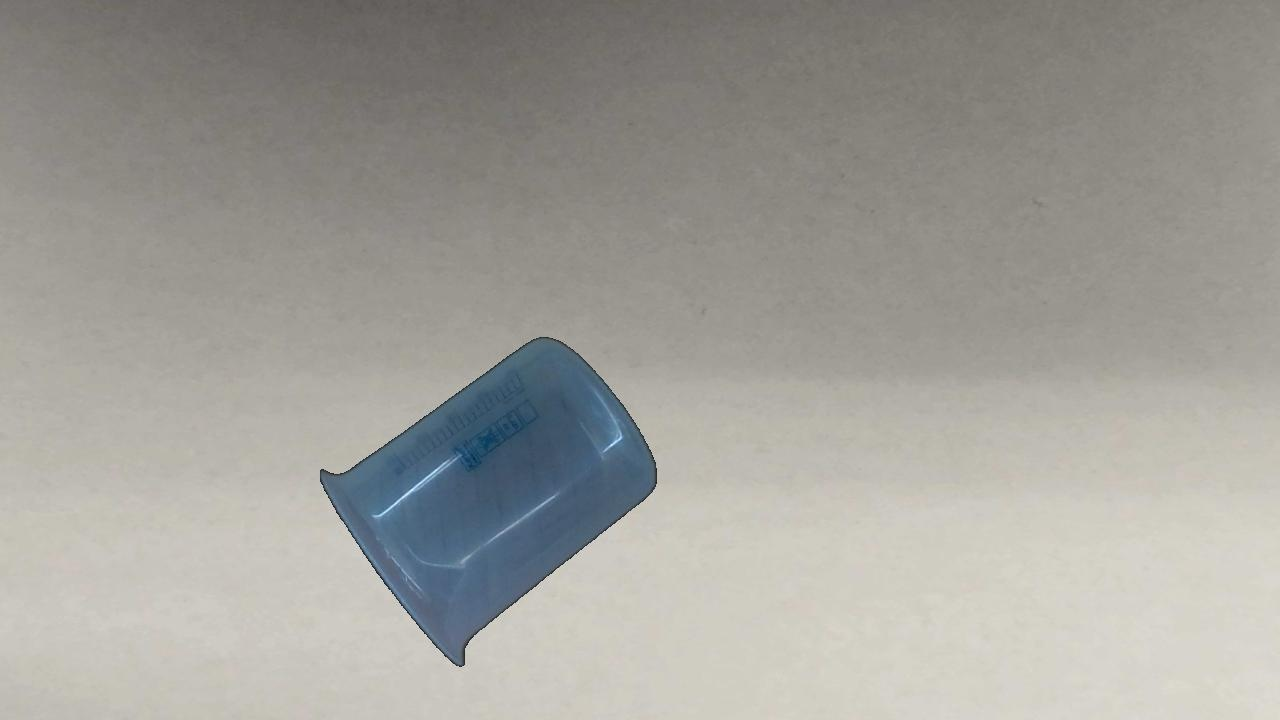cup: (321, 336, 658, 669)
